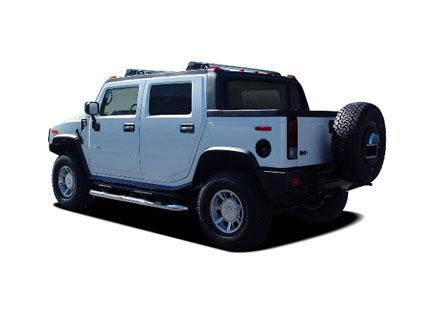Car: (43, 57, 393, 254)
